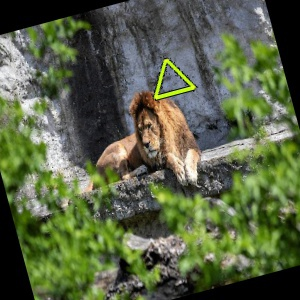triangle: (151, 55, 199, 101)
